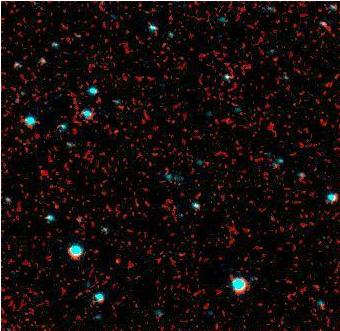star: (41, 192, 71, 222)
